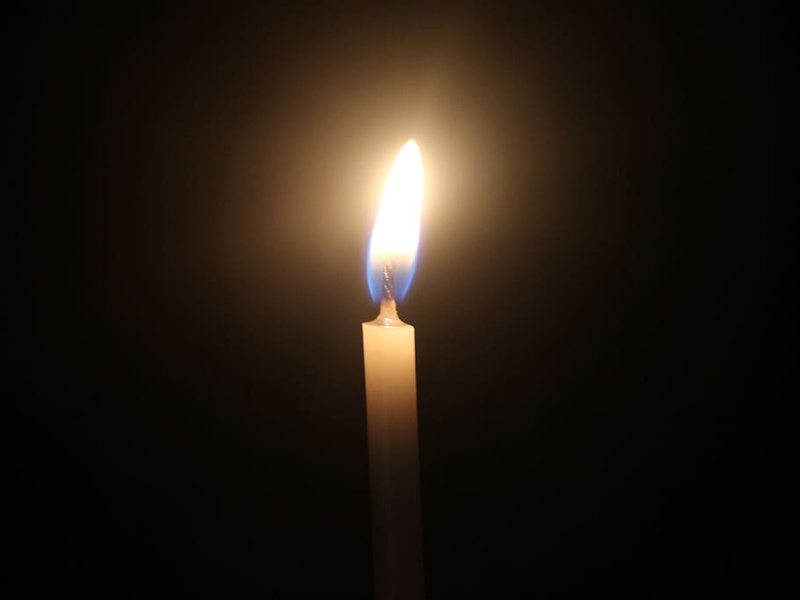fire: (367, 141, 427, 292)
